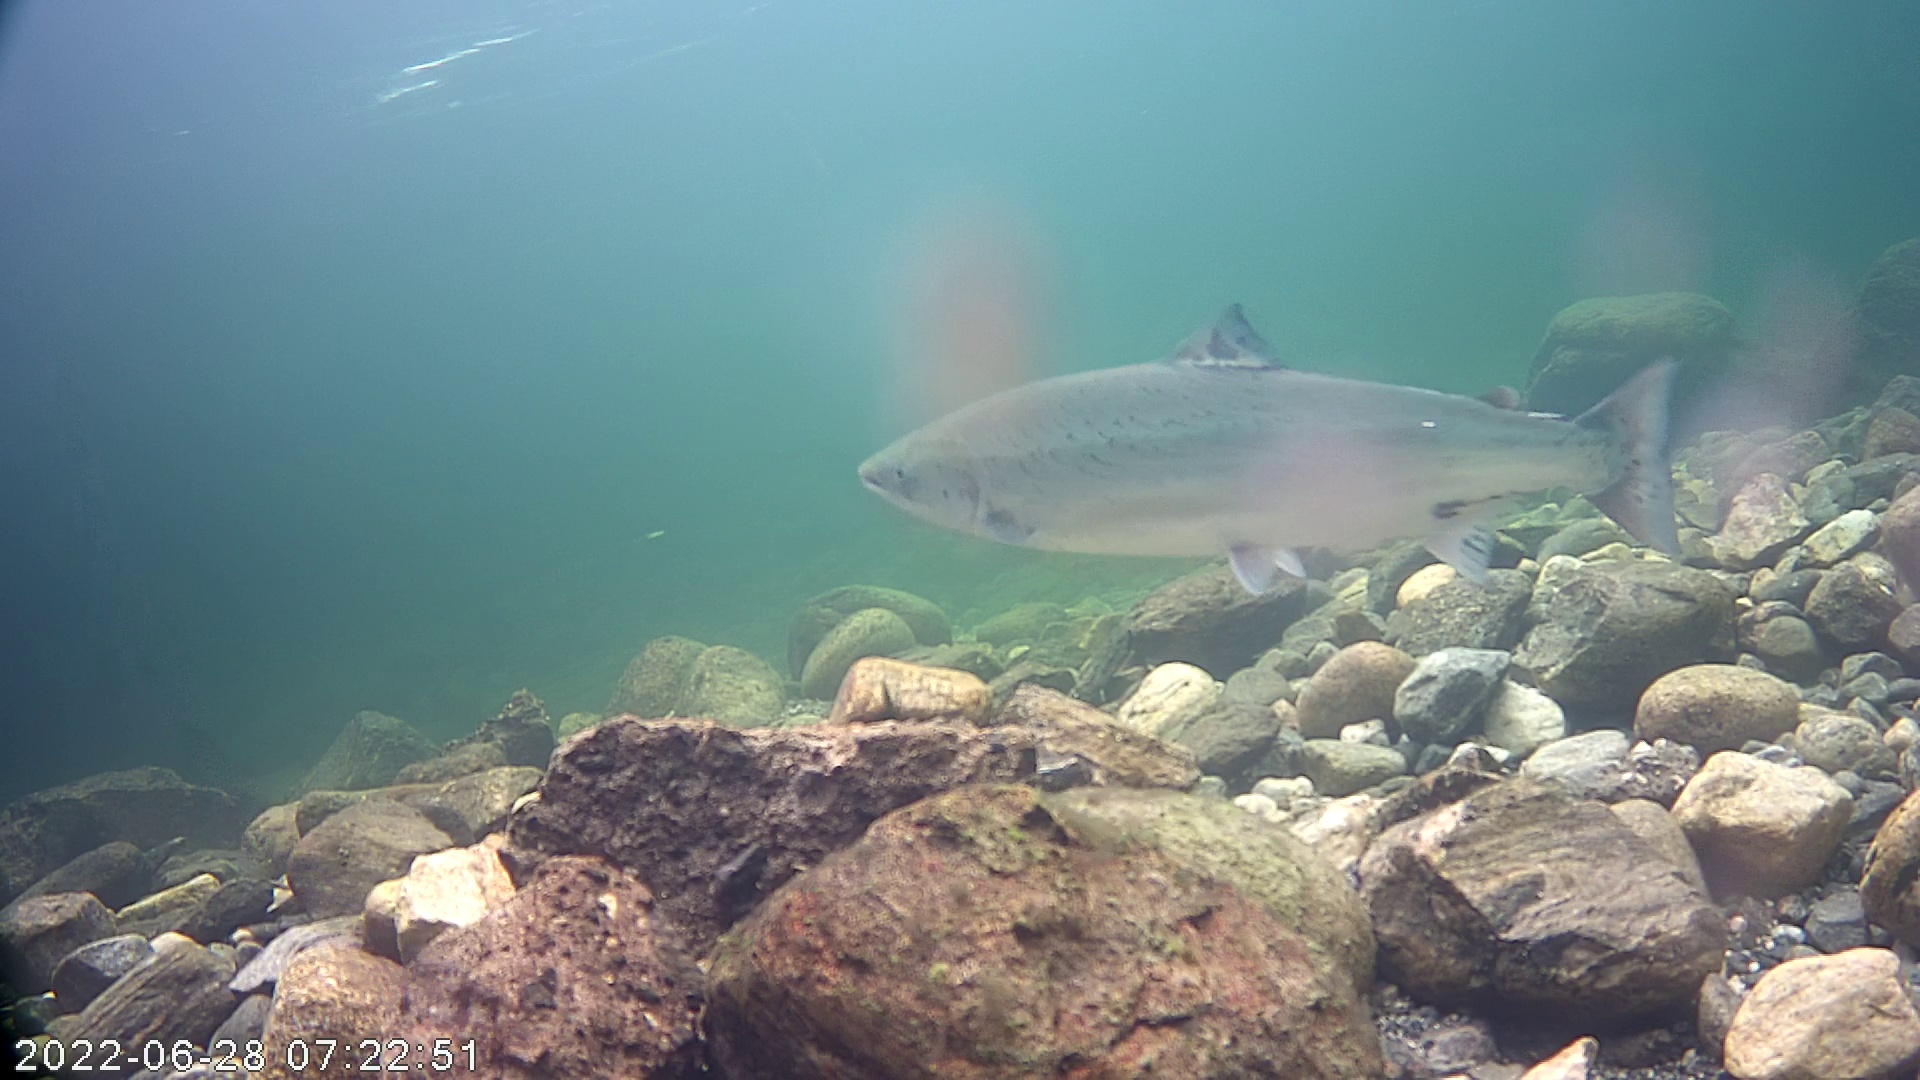salmon: (847, 225, 1716, 650)
